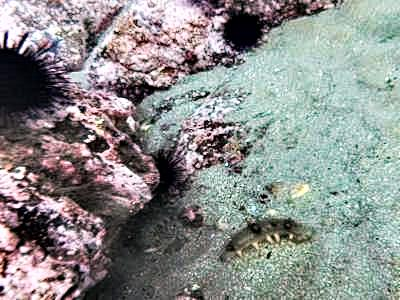urchin: (2, 28, 73, 129), (218, 5, 263, 50), (150, 148, 187, 193)
